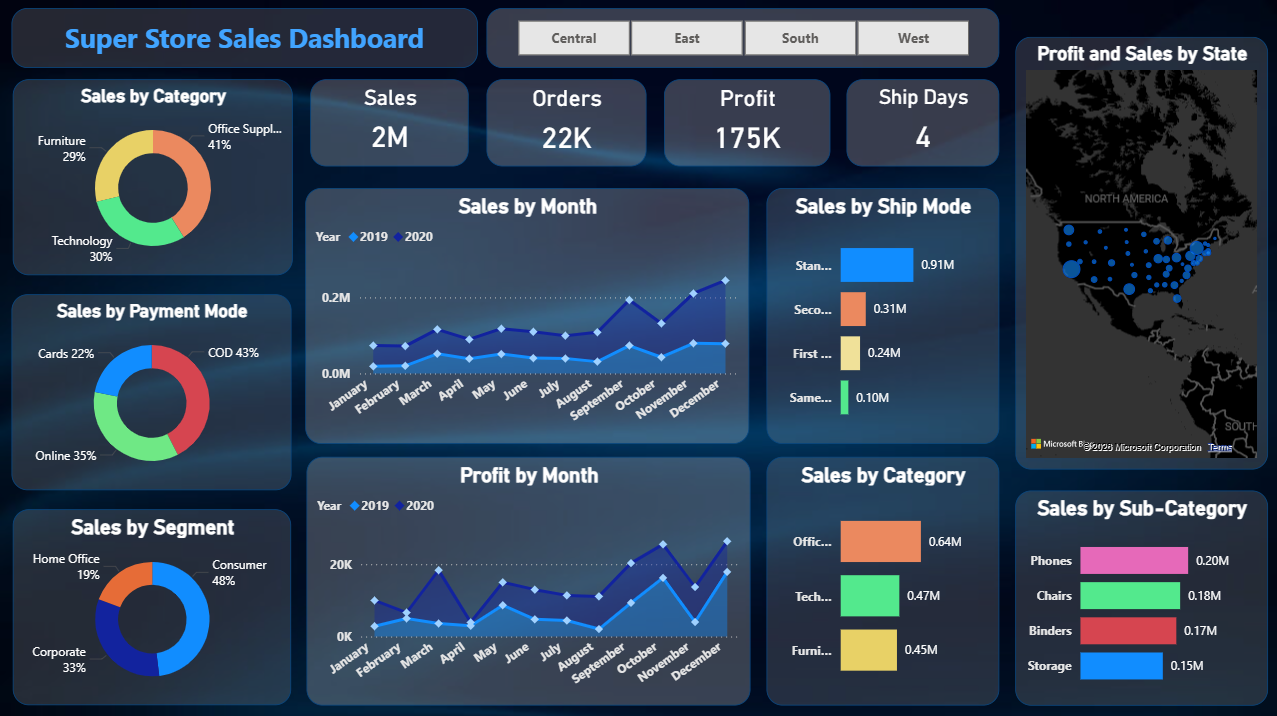

The dashboard page shown, as its layout file describes it:
{"tool":"powerbi","page":{"name":"Page 1","canvas":[1280,720],"ordinal":0},"visuals":[{"type":"clusteredBarChart","title":"Sales by Category","fields":{"Category":["SuperStore_Sales_Dataset.Category"],"Y":["Sum(SuperStore_Sales_Dataset.Sales)"]},"box":[767.5,458.8,232.5,248.8],"z":0},{"type":"clusteredBarChart","title":"Sales by Sub-Category","fields":{"Category":["SuperStore_Sales_Dataset.Sub-Category"],"Y":["Sum(SuperStore_Sales_Dataset.Sales)"]},"box":[1016.2,492.5,252.5,215],"z":1000},{"type":"clusteredBarChart","title":"Sales by Ship Mode","fields":{"Y":["Sum(SuperStore_Sales_Dataset.Sales)"],"Category":["SuperStore_Sales_Dataset.Ship Mode"]},"box":[767.5,190,232.5,256.2],"z":2000},{"type":"stackedAreaChart","title":"Sales by Month","fields":{"Y":["Sum(SuperStore_Sales_Dataset.Sales)"],"Category":["SuperStore_Sales_Dataset.order_date.Variation.Date Hierarchy.Month"],"Series":["SuperStore_Sales_Dataset.order_date.Variation.Date Hierarchy.Year"]},"box":[306.2,190,443.8,256.2],"z":3000},{"type":"stackedAreaChart","title":"Profit by Month","fields":{"Category":["SuperStore_Sales_Dataset.order_date.Variation.Date Hierarchy.Month"],"Series":["SuperStore_Sales_Dataset.order_date.Variation.Date Hierarchy.Year"],"Y":["Sum(SuperStore_Sales_Dataset.Profit)"]},"box":[307.1,458.6,444.3,248.6],"z":4000},{"type":"map","title":"Profit and Sales by State","fields":{"Category":["SuperStore_Sales_Dataset.State"],"Size":["Sum(SuperStore_Sales_Dataset.Sales)"]},"box":[1015.7,38.6,252.9,432.9],"z":5000},{"type":"donutChart","title":"Sales by Segment","fields":{"Category":["SuperStore_Sales_Dataset.Segment"],"Y":["Sum(SuperStore_Sales_Dataset.Sales)"]},"box":[13.8,511.2,278.8,196.2],"z":6000},{"type":"donutChart","title":"Sales by Payment Mode","fields":{"Y":["Sum(SuperStore_Sales_Dataset.Sales)"],"Category":["SuperStore_Sales_Dataset.Payment Mode"]},"box":[12.5,296.2,280,196.2],"z":7000},{"type":"slicer","fields":{"Values":["SuperStore_Sales_Dataset.Region"]},"box":[487.5,10,512.5,60],"z":8000},{"type":"textbox","box":[12.5,10,466.2,60],"z":9000},{"type":"card","title":"Sales","fields":{"Values":["Sum(SuperStore_Sales_Dataset.Sales)"]},"box":[311.2,81.2,158.8,87.5],"z":10000},{"type":"card","title":"Orders","fields":{"Values":["Sum(SuperStore_Sales_Dataset.Quantity)"]},"box":[487.5,81.2,160,87.5],"z":11000},{"type":"card","title":"Profit","fields":{"Values":["Sum(SuperStore_Sales_Dataset.Profit)"]},"box":[665,81.2,166.2,87.5],"z":12000},{"type":"card","title":"Ship Days","fields":{"Values":["Avg(SuperStore_Sales_Dataset.AvgDelivery)"]},"box":[847.5,81.2,152.5,87.5],"z":13000},{"type":"donutChart","title":"Sales by Category","fields":{"Category":["SuperStore_Sales_Dataset.Category"],"Y":["Sum(SuperStore_Sales_Dataset.Sales)"]},"box":[13.8,81.2,280,196.2],"z":13001}]}

Visuals, with their boxes in screenshot pixels (x1, y1, x2, y2), scaled from the page's 1280x720 canvas onto the 1277x716 screenshot:
"Sales by Category" clusteredBarChart: (766,456,998,704)
"Sales by Sub-Category" clusteredBarChart: (1014,490,1266,704)
"Sales by Ship Mode" clusteredBarChart: (766,189,998,444)
"Sales by Month" stackedAreaChart: (305,189,748,444)
"Profit by Month" stackedAreaChart: (306,456,750,703)
"Profit and Sales by State" map: (1013,38,1266,469)
"Sales by Segment" donutChart: (14,508,292,703)
"Sales by Payment Mode" donutChart: (12,295,292,490)
slicer - SuperStore_Sales_Dataset.Region: (486,10,998,70)
textbox: (12,10,478,70)
"Sales" card: (310,81,469,168)
"Orders" card: (486,81,646,168)
"Profit" card: (663,81,829,168)
"Ship Days" card: (846,81,998,168)
"Sales by Category" donutChart: (14,81,293,276)
